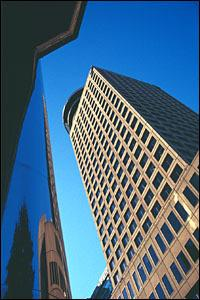building: (61, 63, 200, 300)
